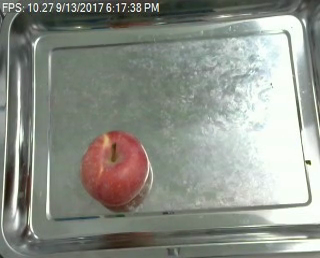Apple: (79, 131, 151, 206)
